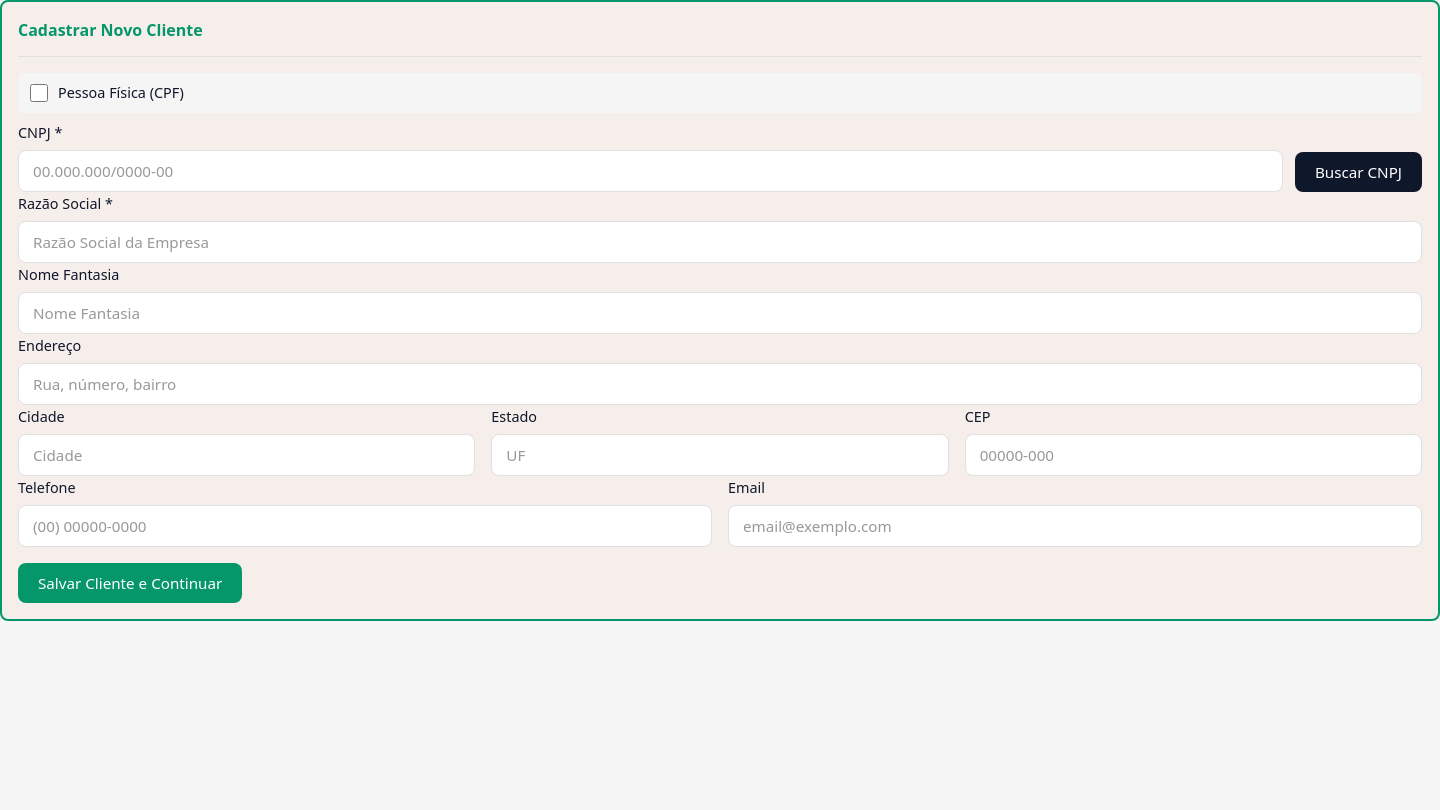
NovoClienteForm › Buscar CNPJ › deve mostrar erro para CNPJ incompleto
Type "123" into the field labelled "CNPJ *" at (650, 171), box [18, 150, 1283, 192]
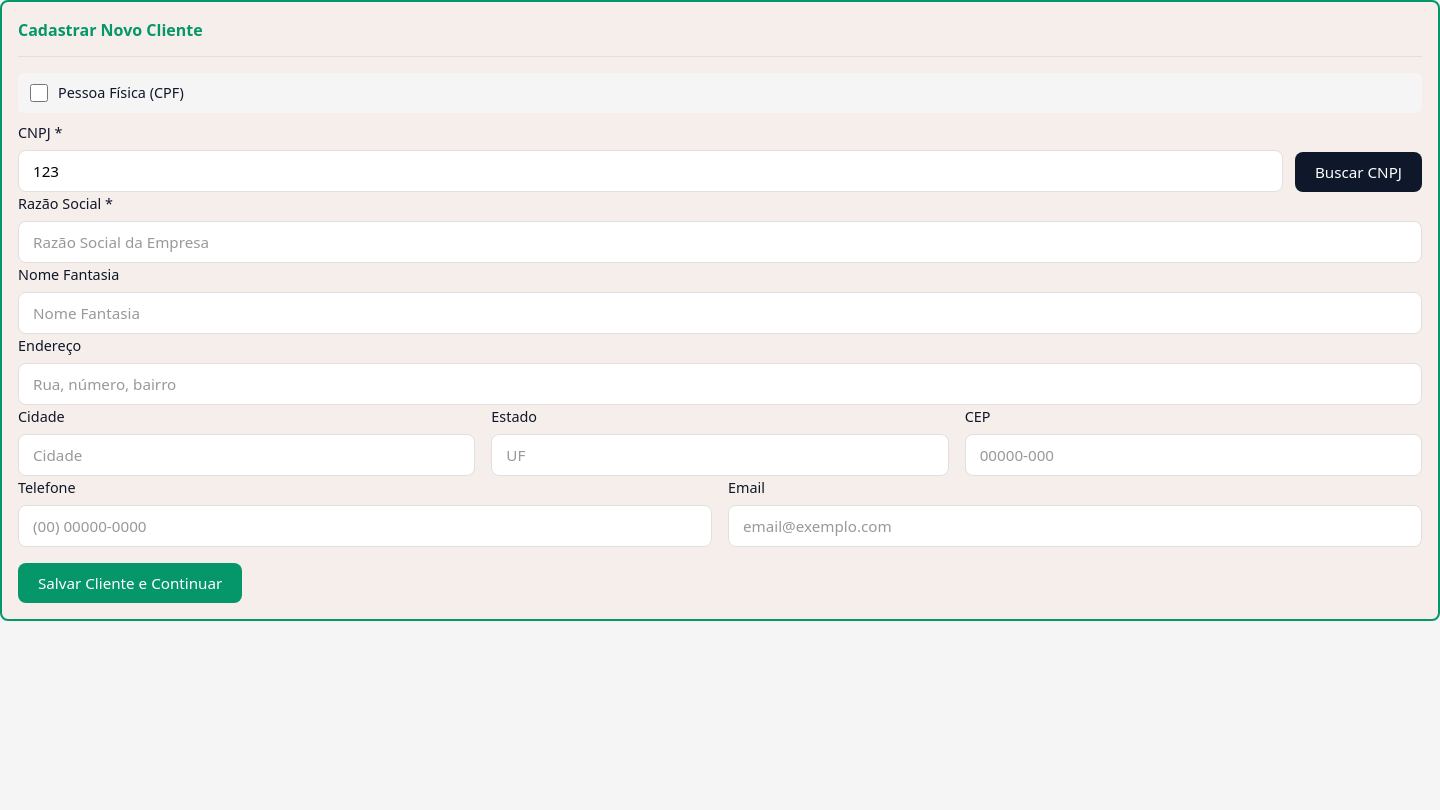
Click the button "Buscar CNPJ" at (1358, 172), box [1295, 152, 1422, 192]
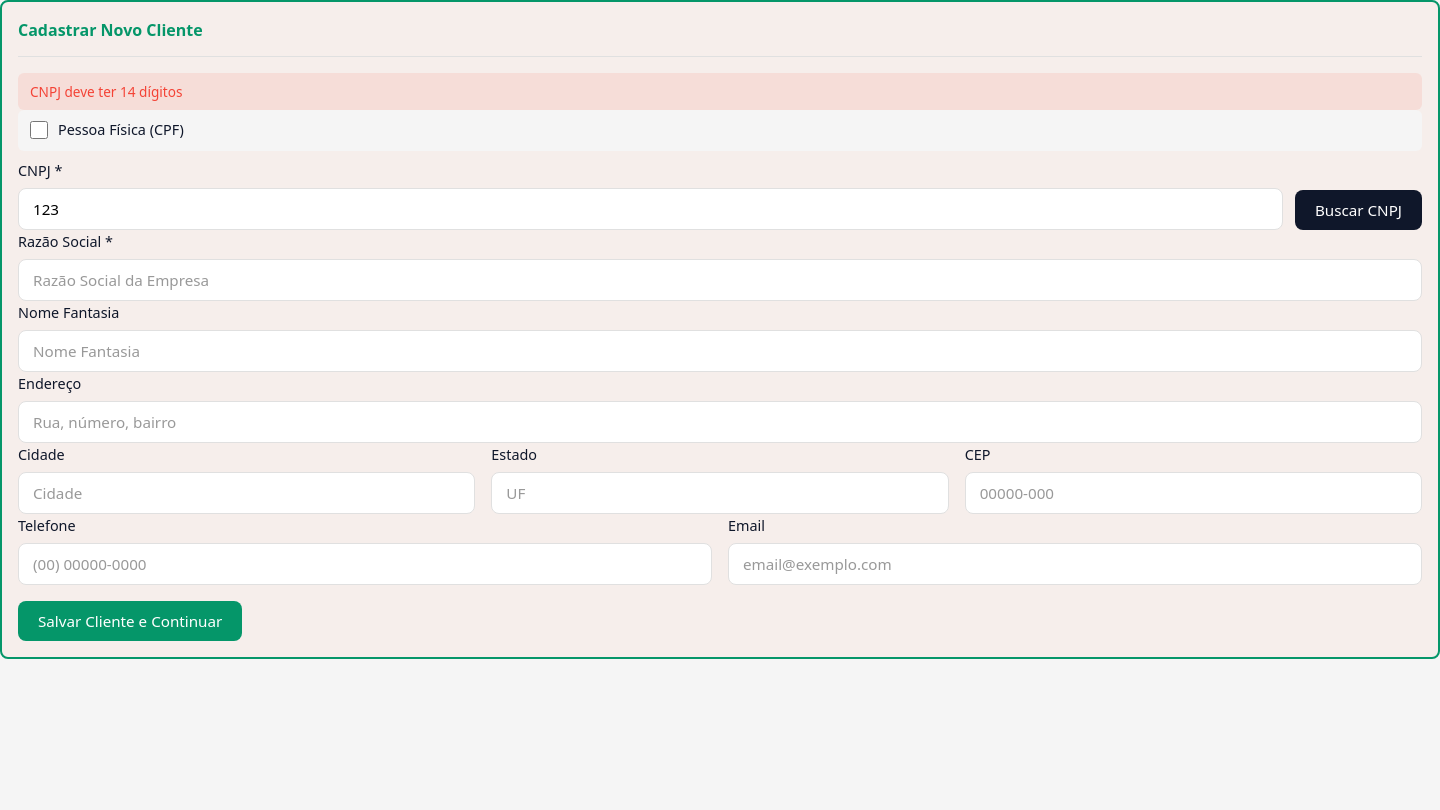
Check: the text "CNPJ deve ter 14 dígitos" is shown, box [18, 73, 1422, 110]
